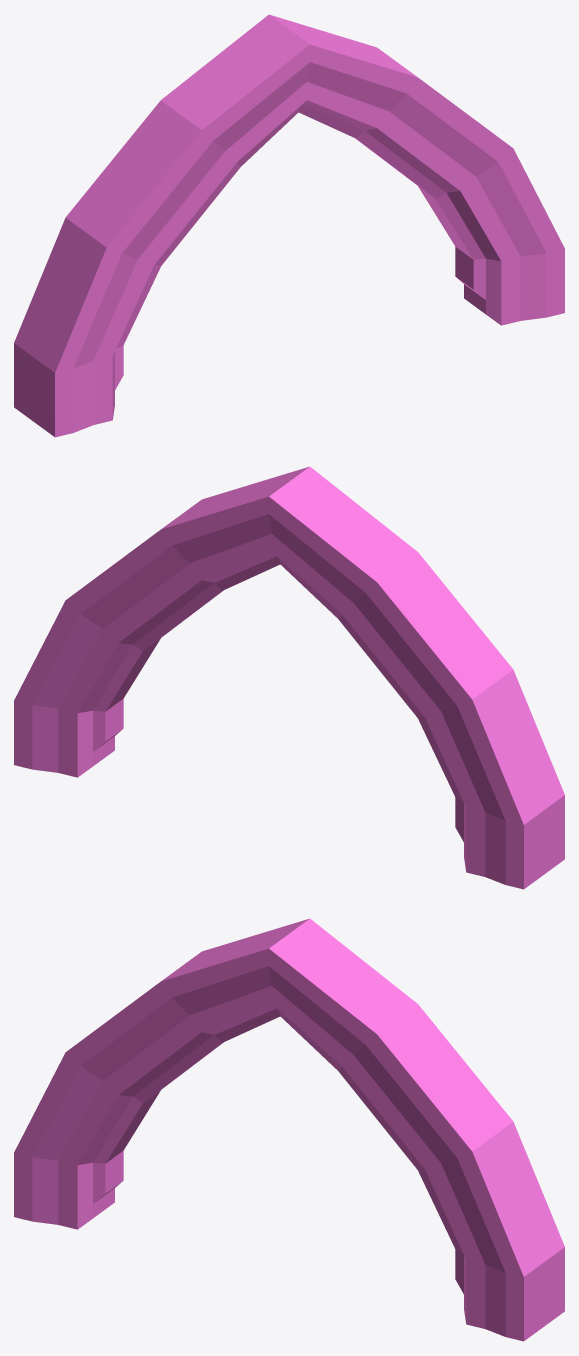
Rendered from SM_Arch_Stone_Fantasy.fbx.
The picture shows the model from 3 angles, top to bottom: view 1: azimuth 30°, elevation 25°; view 2: azimuth 150°, elevation 25°; view 3: azimuth 330°, elevation 25°; orthographic projection.
Visible parts, largest first — view 1: SM_Arch_Stone_Fantasy; view 2: SM_Arch_Stone_Fantasy; view 3: SM_Arch_Stone_Fantasy.
Part boxes in pixels (x1=…): SM_Arch_Stone_Fantasy: x1=14, y1=14, x2=564, y2=437; SM_Arch_Stone_Fantasy: x1=14, y1=466, x2=564, y2=889; SM_Arch_Stone_Fantasy: x1=14, y1=918, x2=564, y2=1341.
Bounding box in the file's own units: 4.15 × 2.57 × 0.5799.
